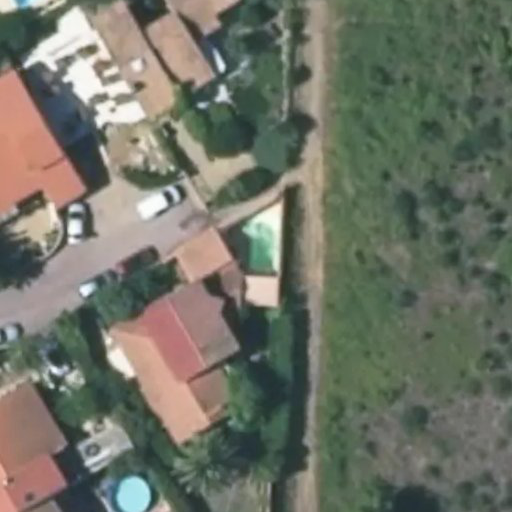pool: (244, 220, 278, 277), (112, 474, 151, 512)
